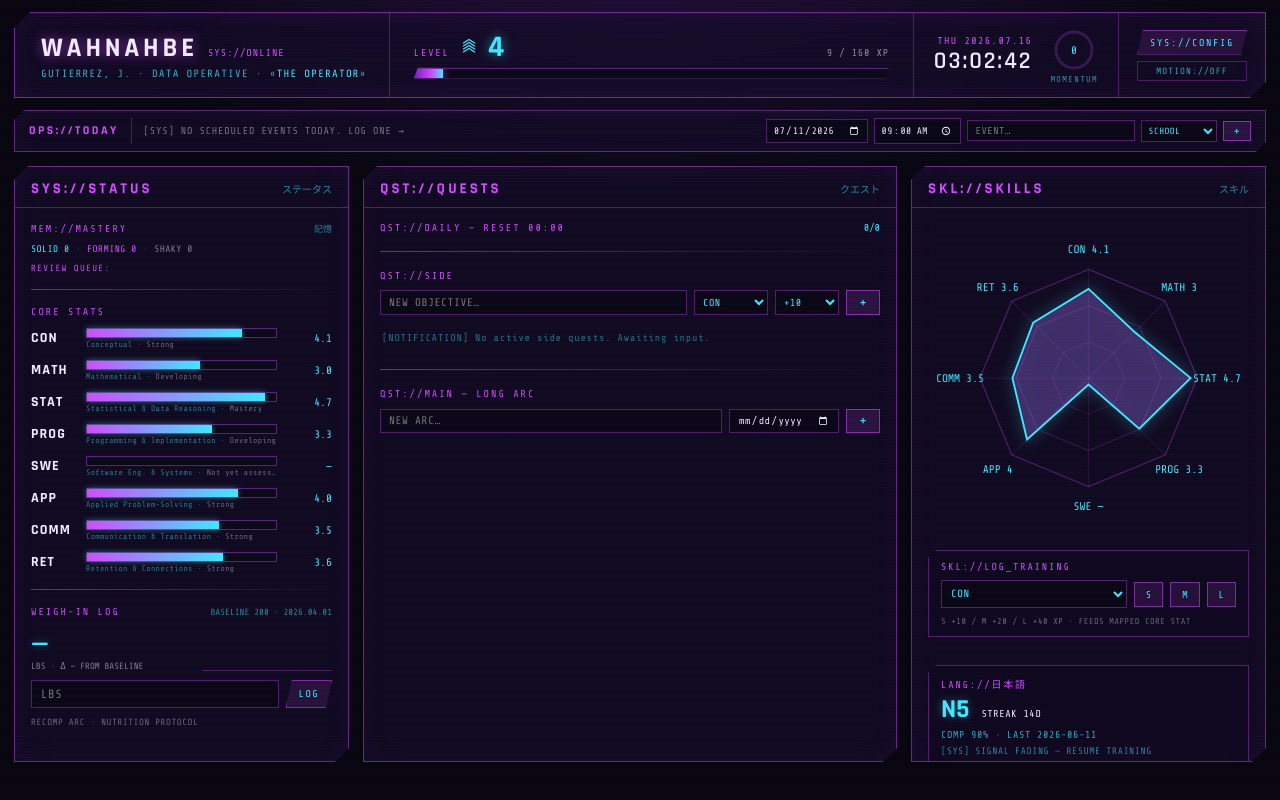
Test: App shows the amount actually just earned after a training click, not the lifetime total
The image size is (1280, 800).
Expected: the text "WAHNAHBE" is shown, [41,30,198,64]
Click the button titled "+10 XP": [1148, 594] box [1134,582,1163,606]
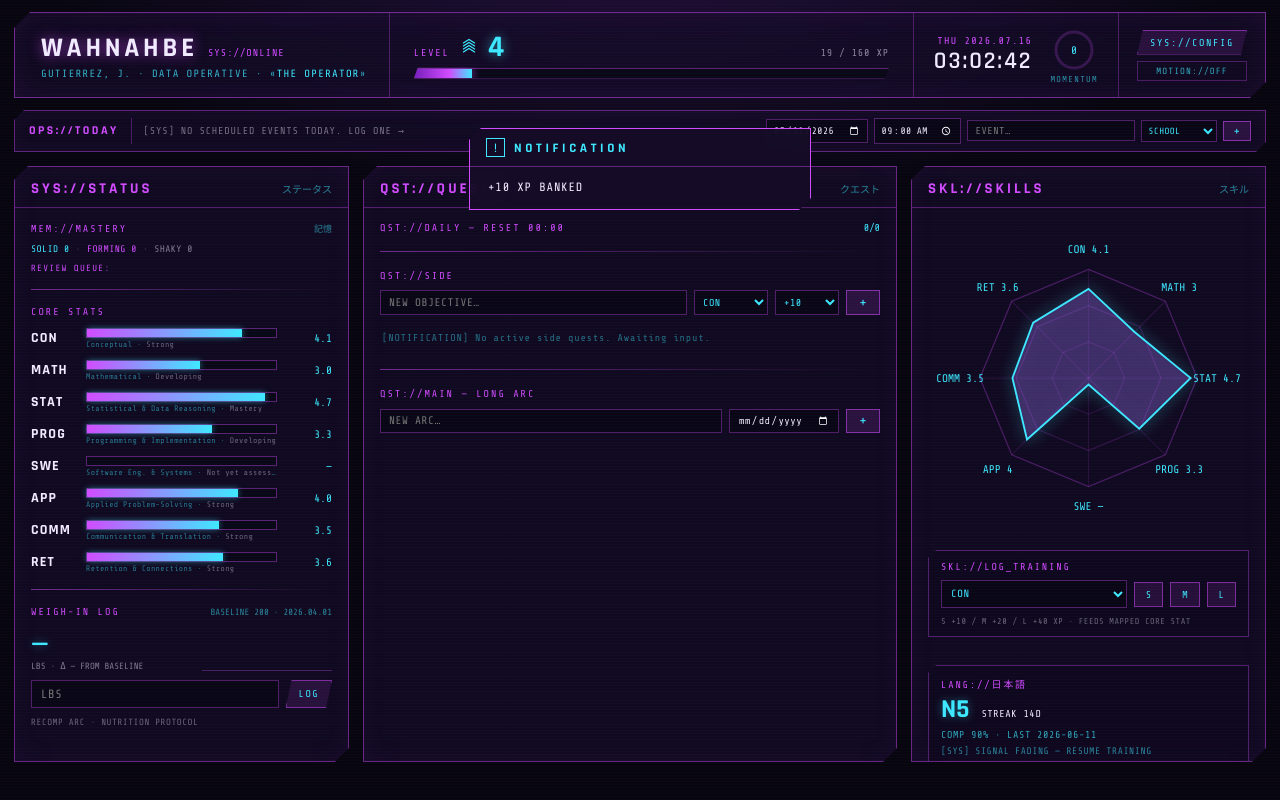
Result: the text "+10 XP BANKED" is shown at [488,180,583,194]
